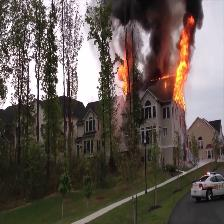fire: (178, 28, 187, 105)
smoke: (117, 0, 199, 26), (147, 27, 170, 76)
